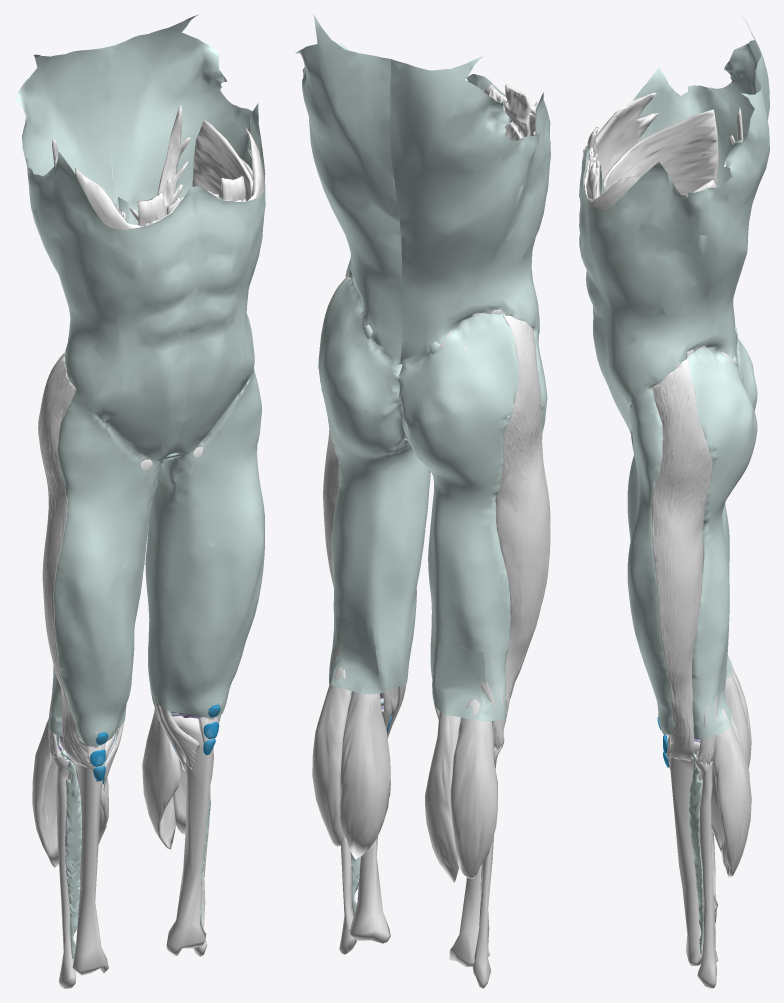
The model's file is hip.glb.
3 renders of one model, left to right at view 1: azimuth 30°, elevation 25°; view 2: azimuth 150°, elevation 25°; view 3: azimuth 270°, elevation 25°, orthographic. The views are drawn at different scales.
Visible parts, largest first — view 1: Investing abdominal fascia.r, Investing abdominal fascia.l, Fascia lata.l, Fascia lata.r, Iliotibial tract.r, Tibia.l, Tibia.r, Medial head of gastrocnemius.l, Transversus abdominis muscle.l, Lateral head of gastrocnemius.r, Fibula.r, Interosseous membrane of leg.r (+7 smaller); view 2: Investing abdominal fascia.r, Fascia lata.r, Fascia lata.l, Investing abdominal fascia.l, Iliotibial tract.r, Medial head of gastrocnemius.l, Lateral head of gastrocnemius.r, Lateral head of gastrocnemius.l, Medial head of gastrocnemius.r, Popliteal fascia.r, Popliteal fascia.l, Tibia.l (+6 smaller); view 3: Investing abdominal fascia.l, Fascia lata.l, Iliotibial tract.l, Investing abdominal fascia.r, Transversus abdominis muscle.r, Lateral head of gastrocnemius.l, Tibia.l, Fibula.l, External abdominal oblique muscle.r, Fascia lata.r, Interosseous membrane of leg.l, Medial head of gastrocnemius.r (+4 smaller).
Boxes of the visible parts, bbox=[...] form: Investing abdominal fascia.r: bbox=[14, 46, 196, 460]; Investing abdominal fascia.l: bbox=[107, 14, 265, 454]; Fascia lata.l: bbox=[145, 368, 264, 717]; Fascia lata.r: bbox=[38, 365, 163, 746]; Iliotibial tract.r: bbox=[38, 352, 90, 767]; Tibia.l: bbox=[166, 716, 213, 955]; Tibia.r: bbox=[59, 733, 115, 975]; Medial head of gastrocnemius.l: bbox=[142, 708, 181, 849]; Transversus abdominis muscle.l: bbox=[192, 120, 253, 200]; Lateral head of gastrocnemius.r: bbox=[32, 719, 58, 867]; Fibula.r: bbox=[53, 742, 76, 988]; Interosseous membrane of leg.r: bbox=[65, 761, 81, 958]; Investing abdominal fascia.r: bbox=[389, 56, 550, 366]; Fascia lata.r: bbox=[398, 314, 550, 721]; Fascia lata.l: bbox=[318, 278, 430, 692]; Investing abdominal fascia.l: bbox=[295, 14, 477, 364]; Iliotibial tract.r: bbox=[495, 315, 549, 727]; Medial head of gastrocnemius.l: bbox=[339, 691, 390, 859]; Lateral head of gastrocnemius.r: bbox=[450, 699, 497, 878]; Lateral head of gastrocnemius.l: bbox=[312, 666, 351, 846]; Medial head of gastrocnemius.r: bbox=[425, 711, 460, 882]; Popliteal fascia.r: bbox=[434, 644, 485, 720]; Popliteal fascia.l: bbox=[331, 616, 381, 694]; Tibia.l: bbox=[349, 703, 397, 943]; Investing abdominal fascia.l: bbox=[579, 72, 769, 431]; Fascia lata.l: bbox=[627, 348, 757, 739]; Iliotibial tract.l: bbox=[652, 358, 712, 761]; Investing abdominal fascia.r: bbox=[579, 15, 769, 367]; Transversus abdominis muscle.r: bbox=[596, 109, 719, 195]; Lateral head of gastrocnemius.l: bbox=[713, 708, 751, 877]; Tibia.l: bbox=[669, 741, 717, 966]; Fibula.l: bbox=[694, 756, 716, 988]; External abdominal oblique muscle.r: bbox=[584, 92, 658, 181]; Fascia lata.r: bbox=[627, 336, 757, 576]; Interosseous membrane of leg.l: bbox=[689, 763, 703, 953]; Medial head of gastrocnemius.r: bbox=[724, 675, 749, 767].
Size of the model in its own units: 0.3418 by 1.34 by 0.2573.
